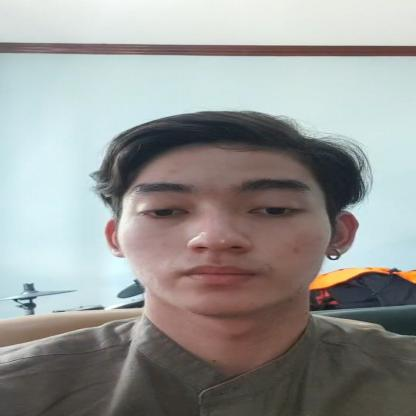Palm: (81, 103, 371, 318)
